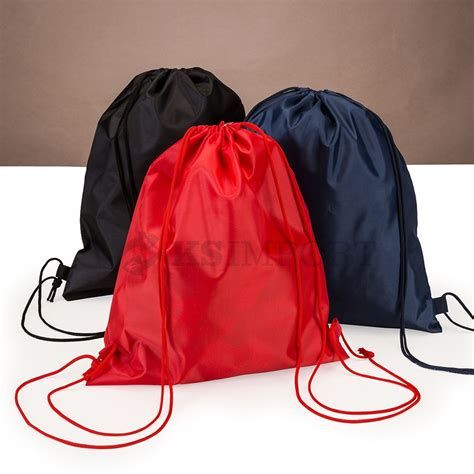nylon: (65, 67, 444, 388)
